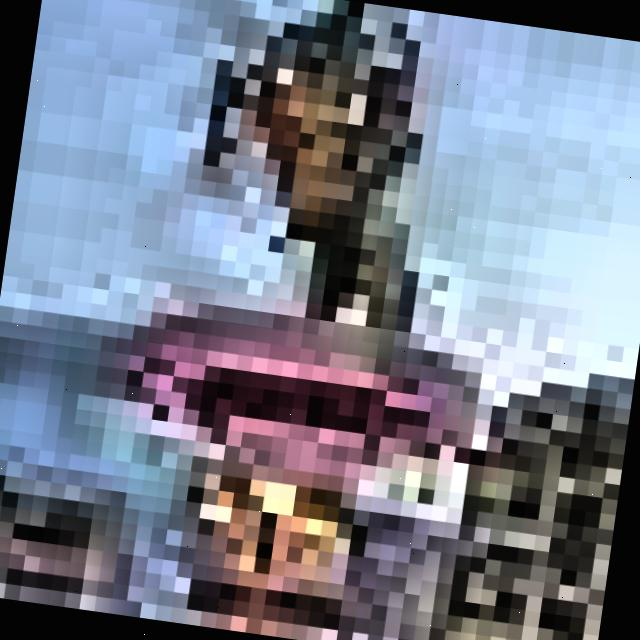alexander the great monument: (68, 0, 527, 640)
